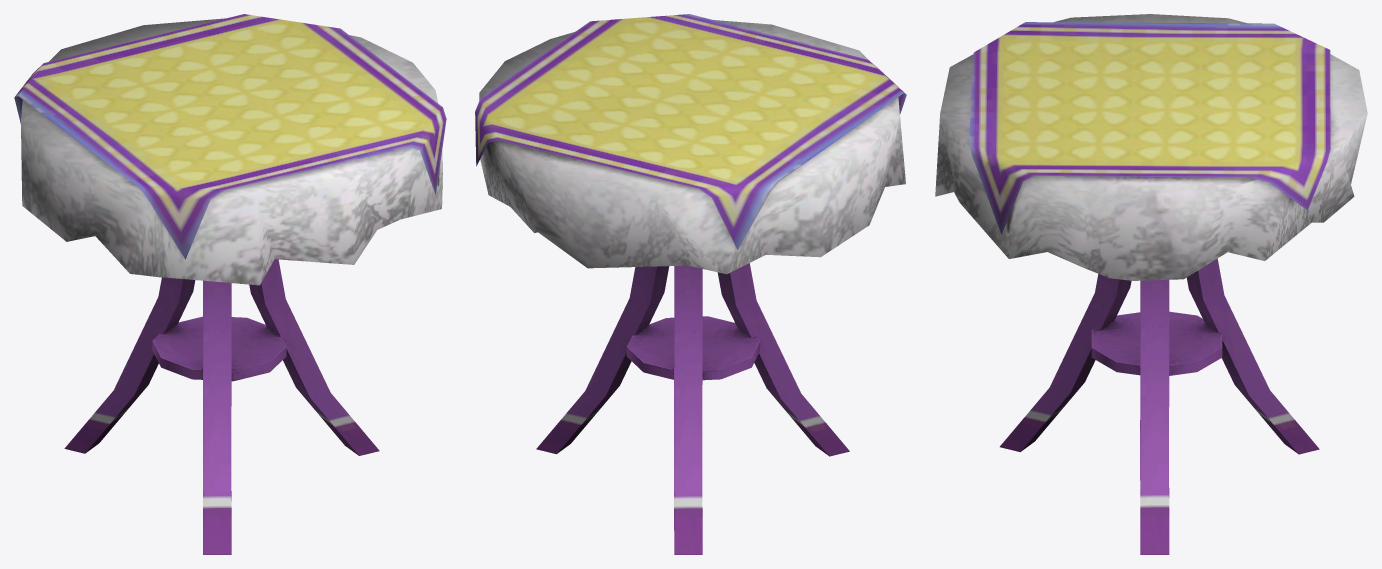
The model's file is furni_0200507_03.FBX.
3 renders of one model, left to right at view 1: azimuth 30°, elevation 25°; view 2: azimuth 150°, elevation 25°; view 3: azimuth 270°, elevation 25°, orthographic. The views are drawn at different scales.
Visible parts, largest first — view 1: furni_0200507_03; view 2: furni_0200507_03; view 3: furni_0200507_03.
Part boxes in pixels (<box>): furni_0200507_03: <box>14,14,446,554</box>; furni_0200507_03: <box>475,14,906,554</box>; furni_0200507_03: <box>935,14,1367,554</box>.
Size of the model in its own units: 81.62 by 81.27 by 82.8.
1 material, 1 textured.
